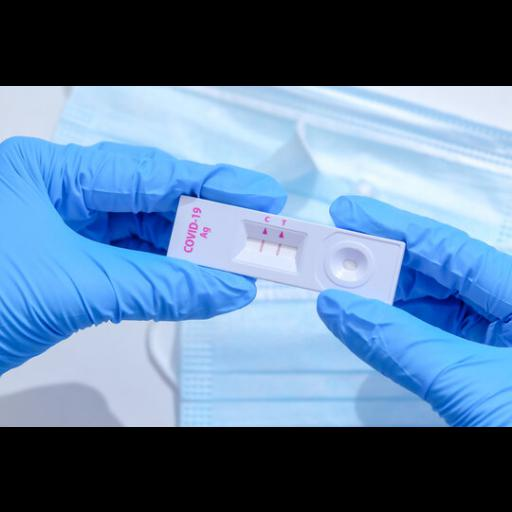Pos: (164, 193, 406, 305)
